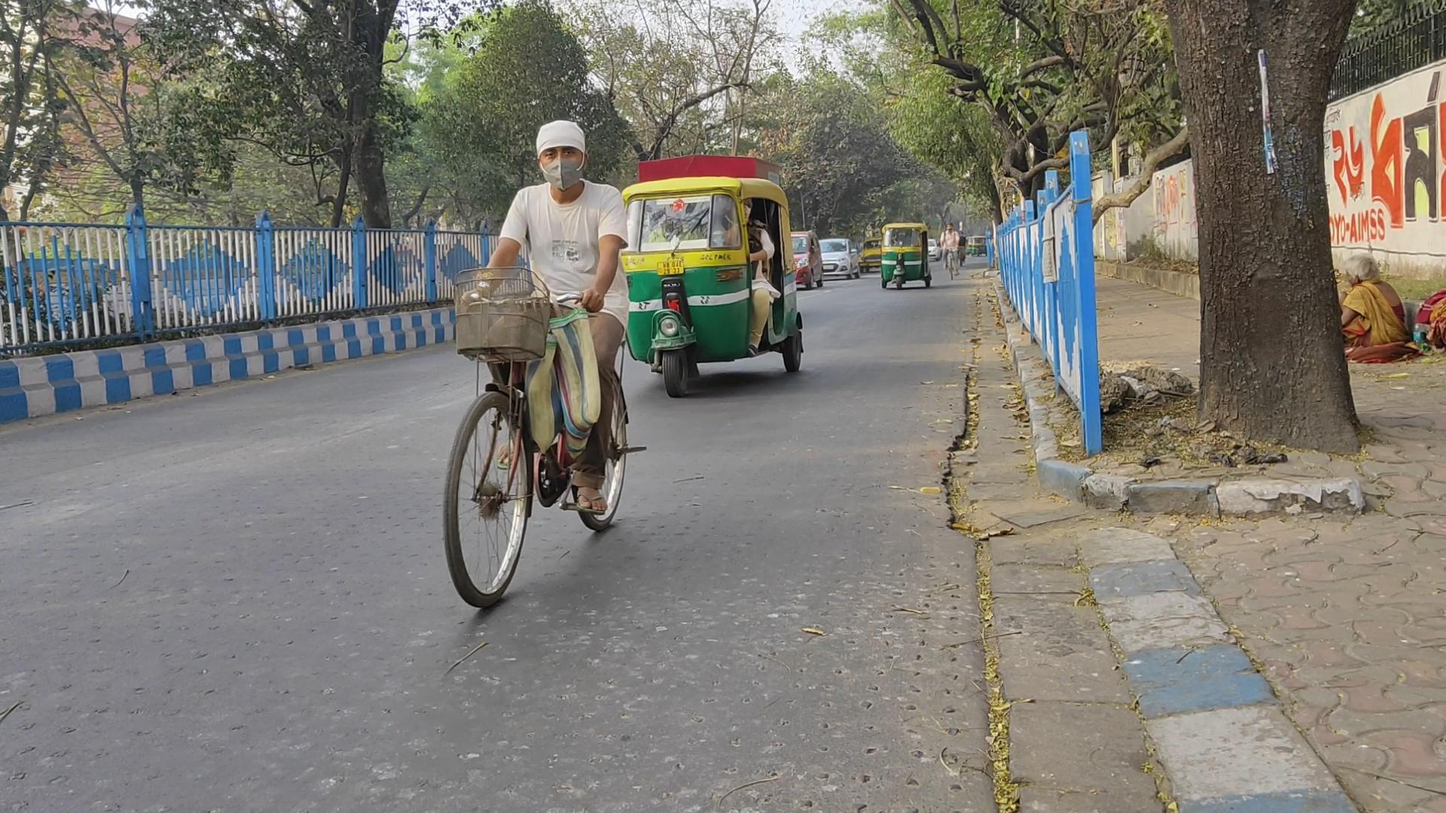Auto: (617, 176, 807, 399), (880, 221, 933, 293), (971, 235, 987, 257)
bike: (441, 120, 646, 608), (940, 223, 962, 282)
car: (789, 230, 825, 292), (818, 237, 861, 281), (859, 236, 888, 274)
